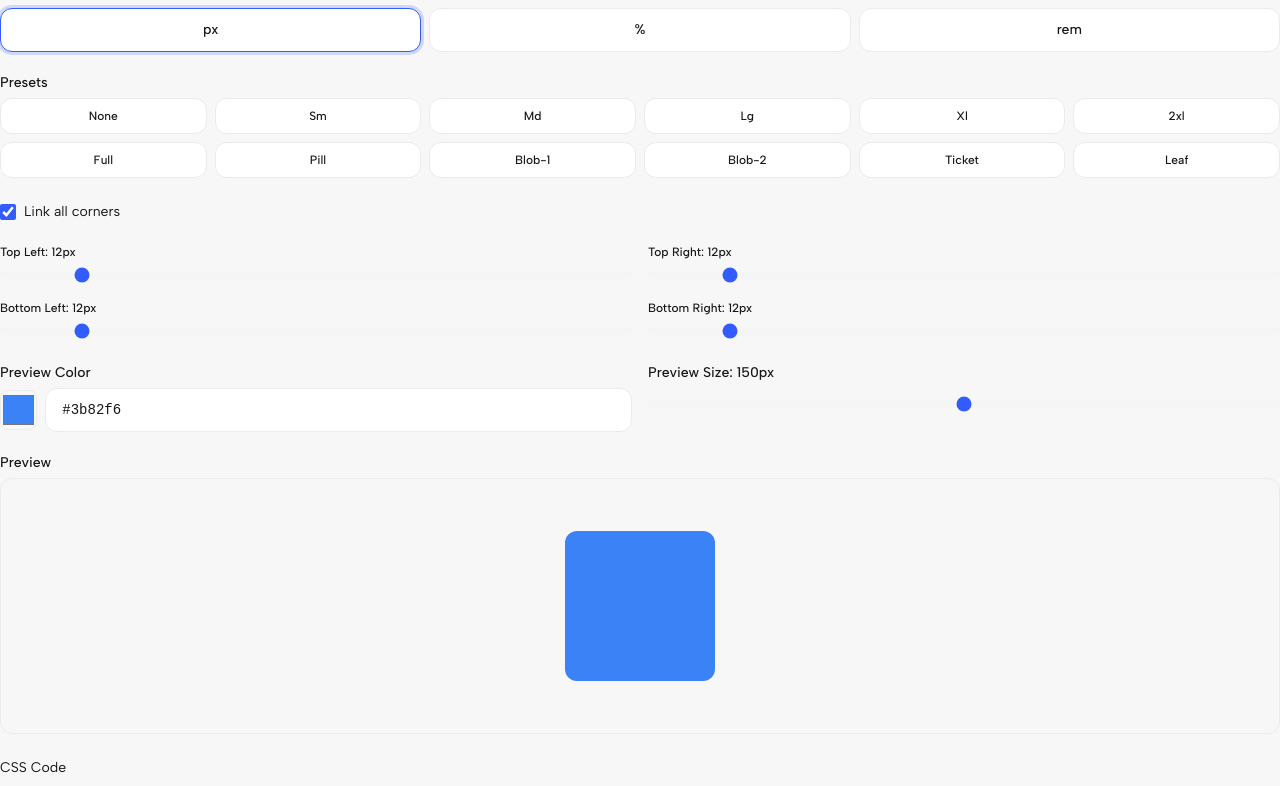
Test: BorderRadiusGeneratorTool › applies full preset
Click the button "full" at (103, 160), box [0,142,207,178]
(page scrolled)
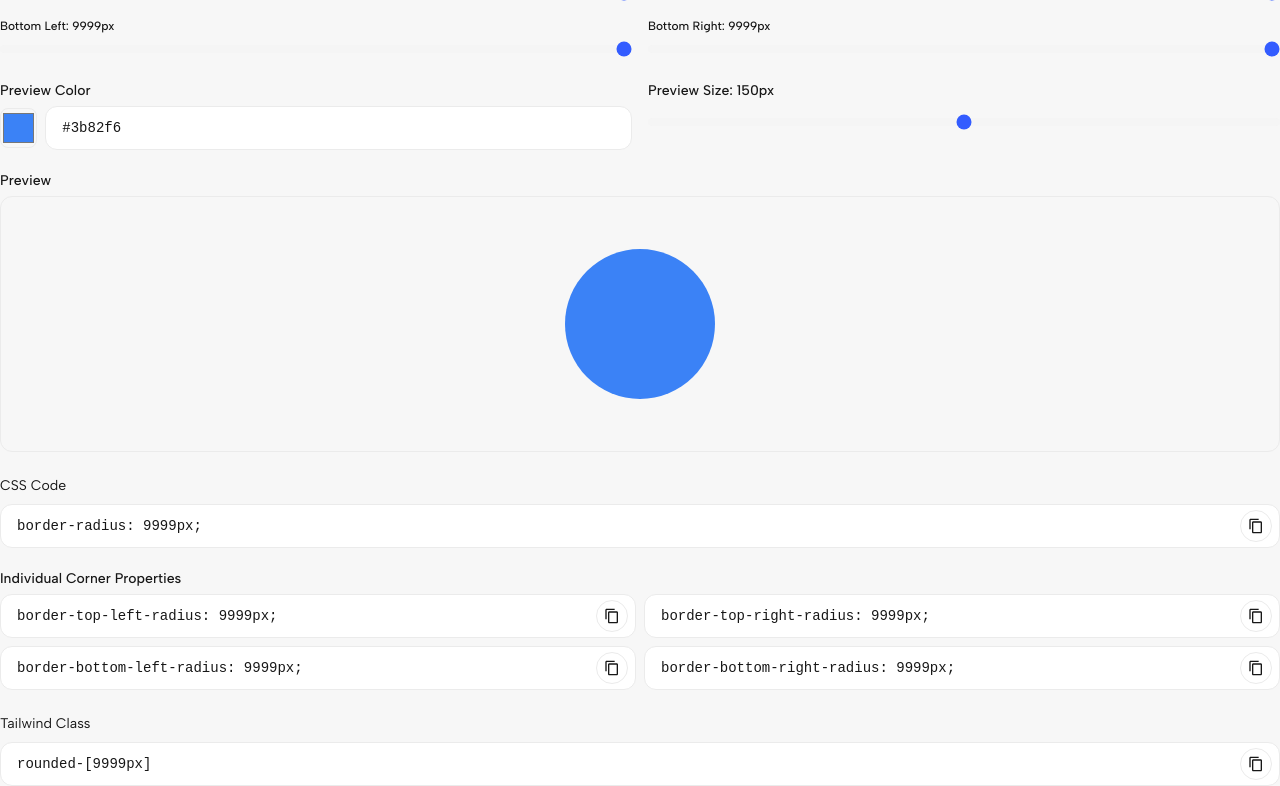
Result: the field below "CSS Code" holds "border-radius: 9999px;" at [0,504,1279,548]
